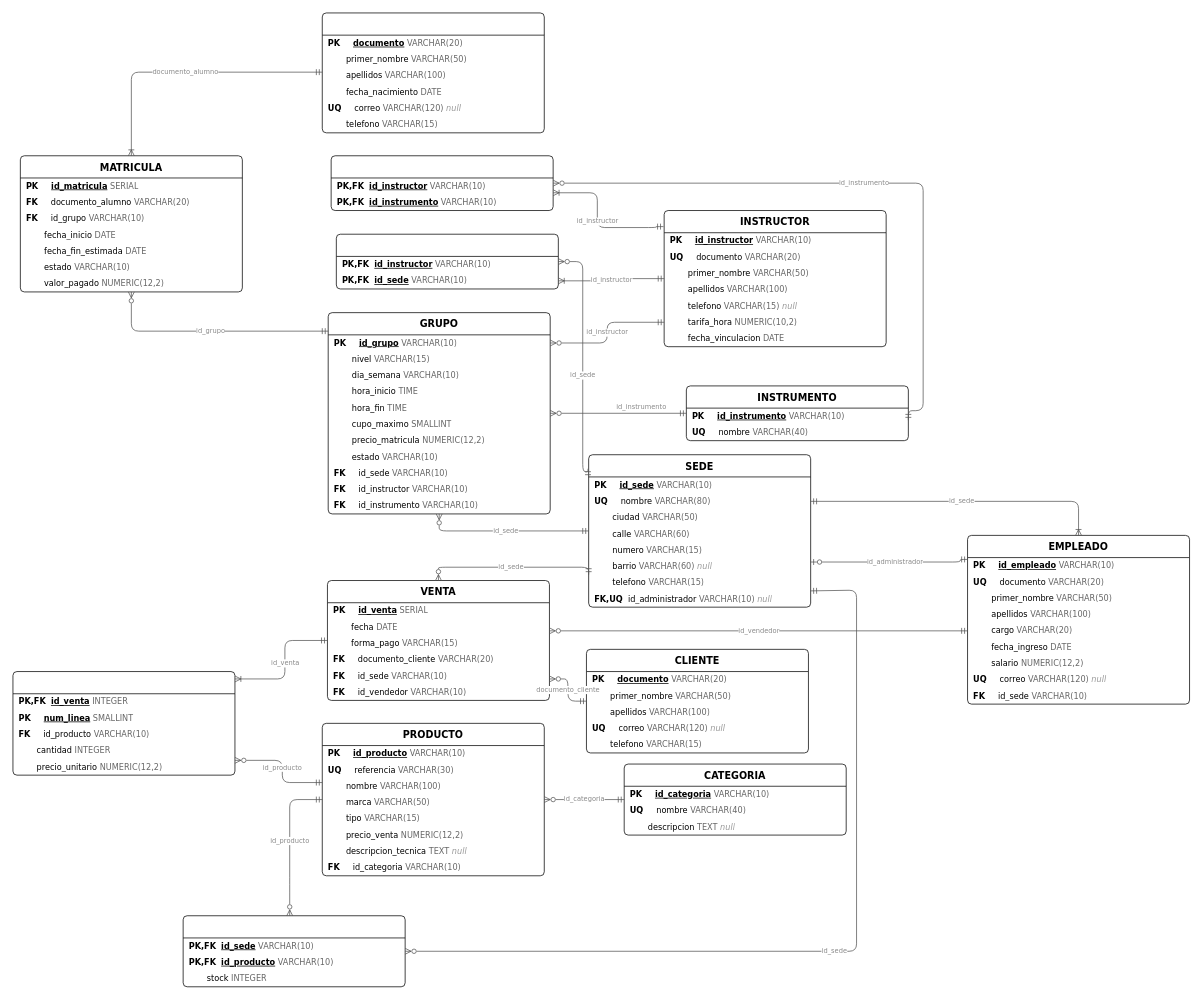
This 1203x1000 diagram has some shape labels left out. Each missing label, with the box of its shape:
ALUMNO: (322, 12, 544, 133)
INSTRUCTOR_ESPECIALIDAD: (330, 155, 553, 211)
INSTRUCTOR_SEDE: (336, 233, 558, 289)
INVENTARIO: (182, 915, 405, 987)
LINEA_VENTA: (12, 671, 235, 775)
